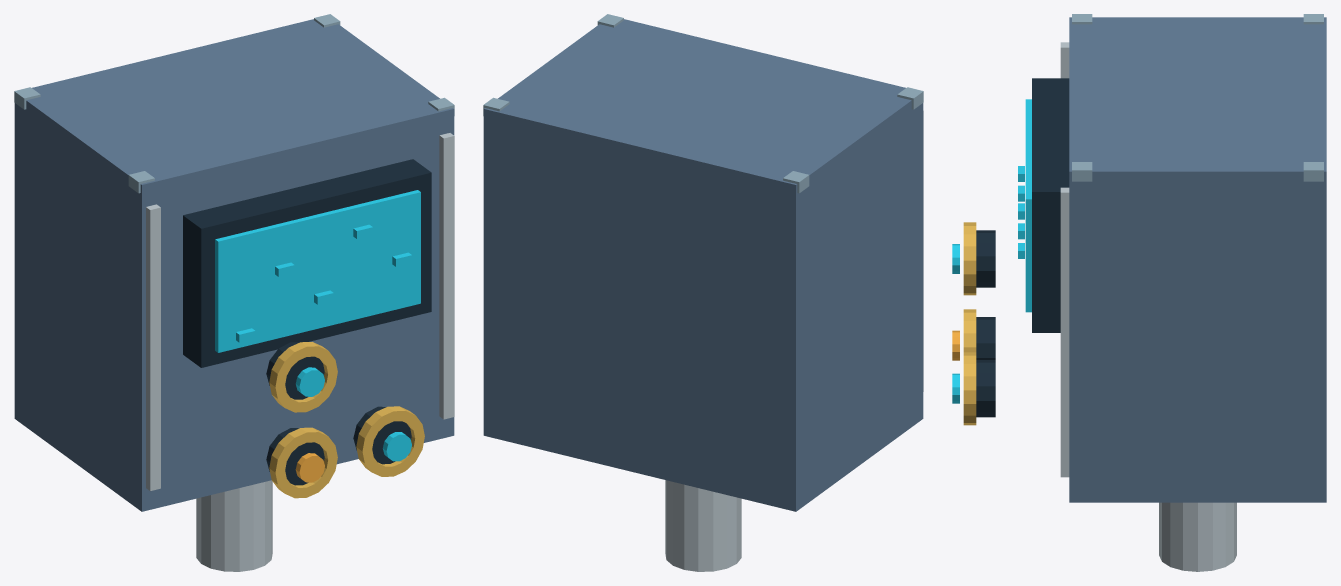
Rendered from 22_L83_SolarArrayVoltageSensors.fbx.
The picture shows the model from 3 angles, left to right: view 1: azimuth 30°, elevation 25°; view 2: azimuth 150°, elevation 25°; view 3: azimuth 270°, elevation 25°; orthographic projection.
Parts seen in each view (by area): view 1: SolarArrayVoltageSensors; view 2: SolarArrayVoltageSensors; view 3: SolarArrayVoltageSensors.
Boxes of the visible parts, <box> form: SolarArrayVoltageSensors: <box>14,14,454,571</box>; SolarArrayVoltageSensors: <box>483,14,923,571</box>; SolarArrayVoltageSensors: <box>952,14,1326,571</box>.
Bounding box in the file's own units: 61.76 × 85.44 × 62.55.
